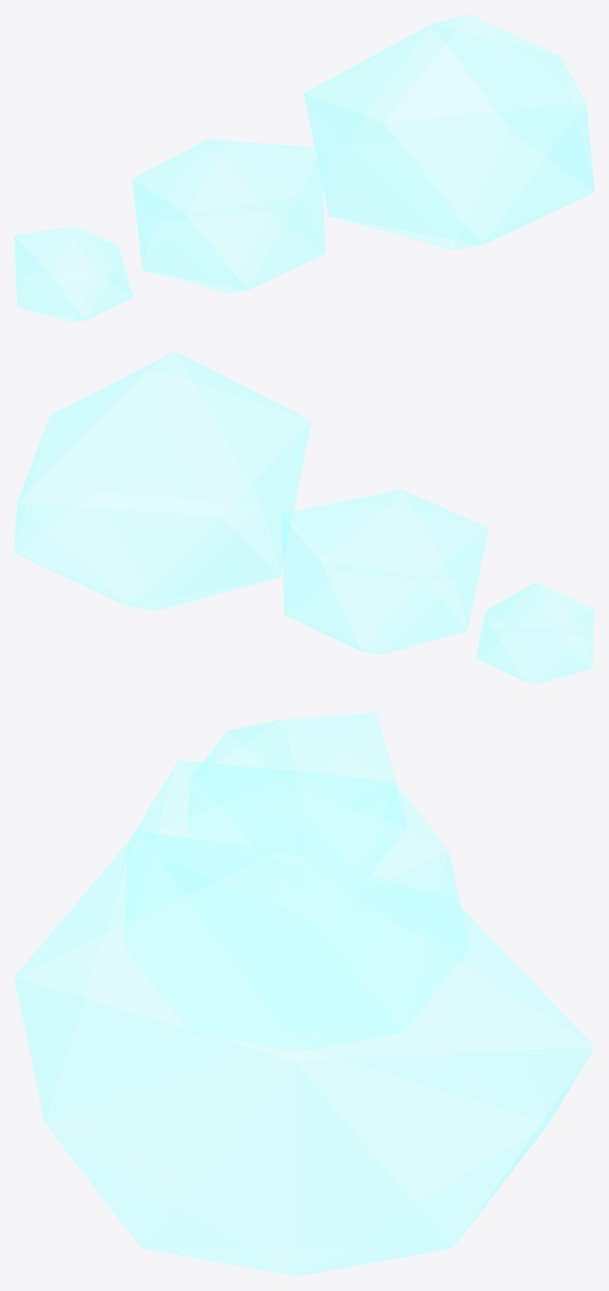
File: GH_Dressing_Boulders.fbx
The picture shows the model from 3 angles, top to bottom: view 1: azimuth 30°, elevation 25°; view 2: azimuth 150°, elevation 25°; view 3: azimuth 270°, elevation 25°; orthographic projection. The views are drawn at different scales.
Parts seen in each view (by area): view 1: SM_boulder_2, SM_boulder_1, SM_boulder_0; view 2: SM_boulder_2, SM_boulder_1, SM_boulder_0; view 3: SM_boulder_2, SM_boulder_1, SM_boulder_0.
Boxes of the visible parts, bbox=[...] form: SM_boulder_2: bbox=[304, 14, 594, 249]; SM_boulder_1: bbox=[132, 139, 325, 293]; SM_boulder_0: bbox=[14, 226, 133, 322]; SM_boulder_2: bbox=[14, 351, 311, 610]; SM_boulder_1: bbox=[281, 489, 488, 654]; SM_boulder_0: bbox=[476, 582, 594, 683]; SM_boulder_2: bbox=[14, 830, 594, 1276]; SM_boulder_1: bbox=[124, 760, 469, 1051]; SM_boulder_0: bbox=[187, 712, 406, 874].
Size of the model in its own units: 3.13 by 1.3 by 1.57.
